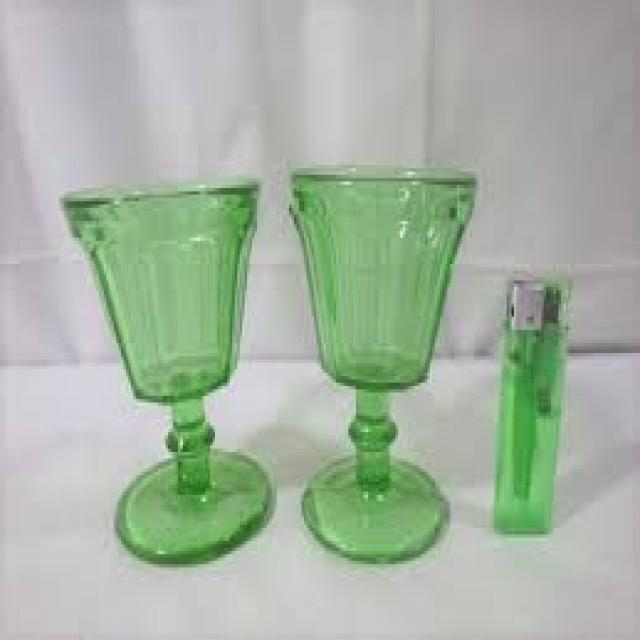Glass: (58, 180, 277, 568), (289, 167, 481, 567)
